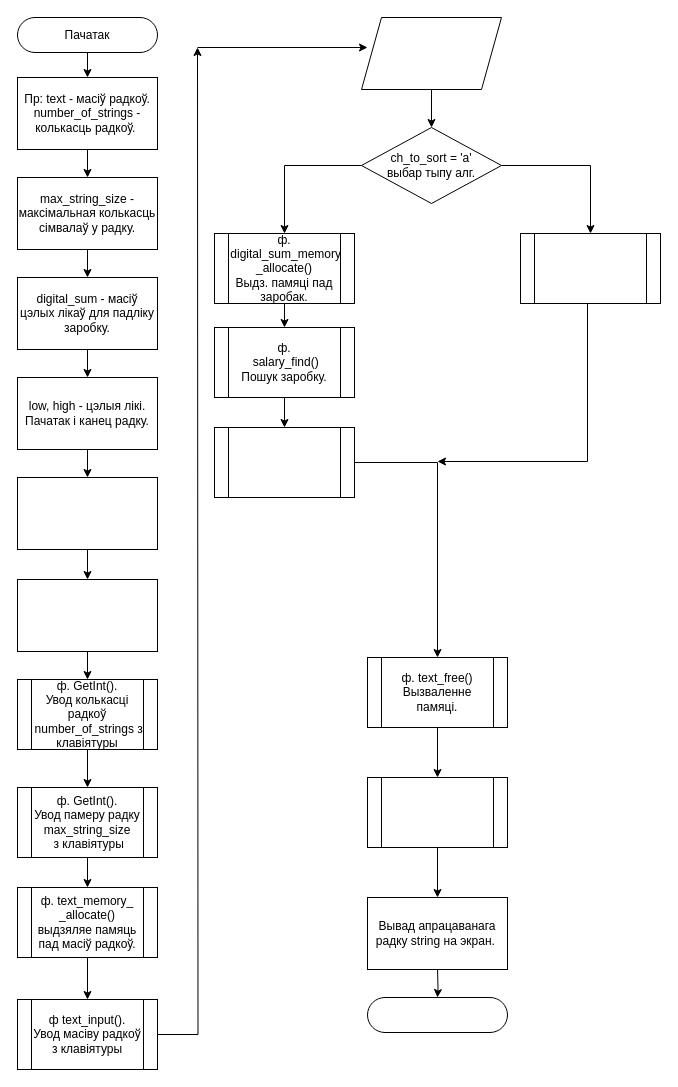
This 678x1087 diagram has some shape labels left out. Each missing label, with the box of its shape:
Канец: (366, 996, 508, 1032)
Прысвоіць зн. low = 0; high = number_of_strings -1: (16, 578, 158, 652)
Прысвоіць значэнне digital_sum = 0.: (16, 476, 158, 550)
Увод ch_to_sort з клавіятуры: (360, 16, 502, 90)
ф. output() Вывад апрацаванага тэксту.: (366, 776, 508, 848)
ф. QuickSort_Name() Сартаванне паводле алфавіту.: (520, 232, 660, 304)
ф. QuickSort_Salary () Сартаванне паводле заробку.: (214, 426, 354, 498)
